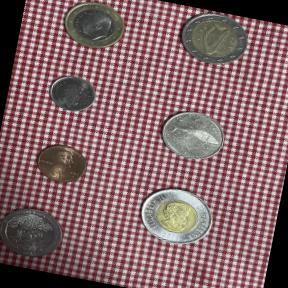1 Euro-B: (53, 0, 136, 62)
2 Euro-B: (170, 4, 254, 72)
Canada-10cent-B: (42, 68, 103, 119)
Canada-2Dollar-B: (128, 176, 224, 252)
Croatia-2Kune-B: (148, 102, 233, 174)
US-1cent-B: (30, 136, 93, 190)
US-25cent-B: (0, 198, 72, 268)
